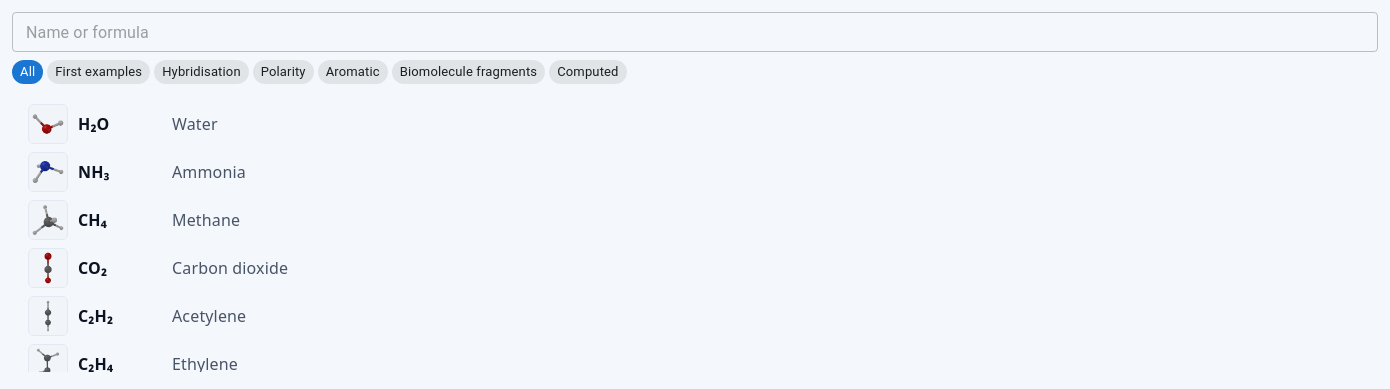
the molecule picker's rows (owner R25-A3) › never asks for a thumbnail for a computed molecule (none is built for it)
The image size is (1390, 389).
Click the button "Computed" at (588, 72), box [549,60,627,84]
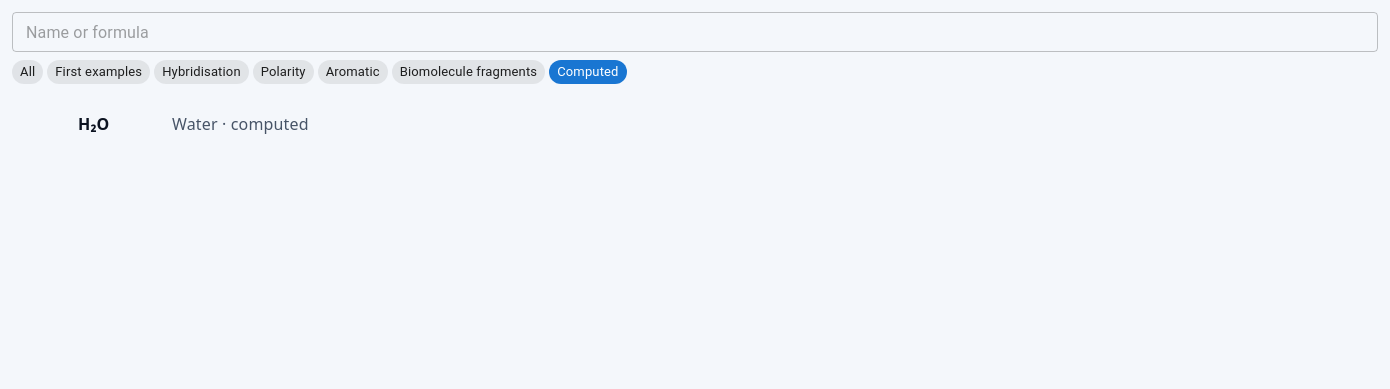
Expected: the text with class "molecule-picker-formula" reads "H₂O", [78,113,110,135]
Expected: the picture is gone
